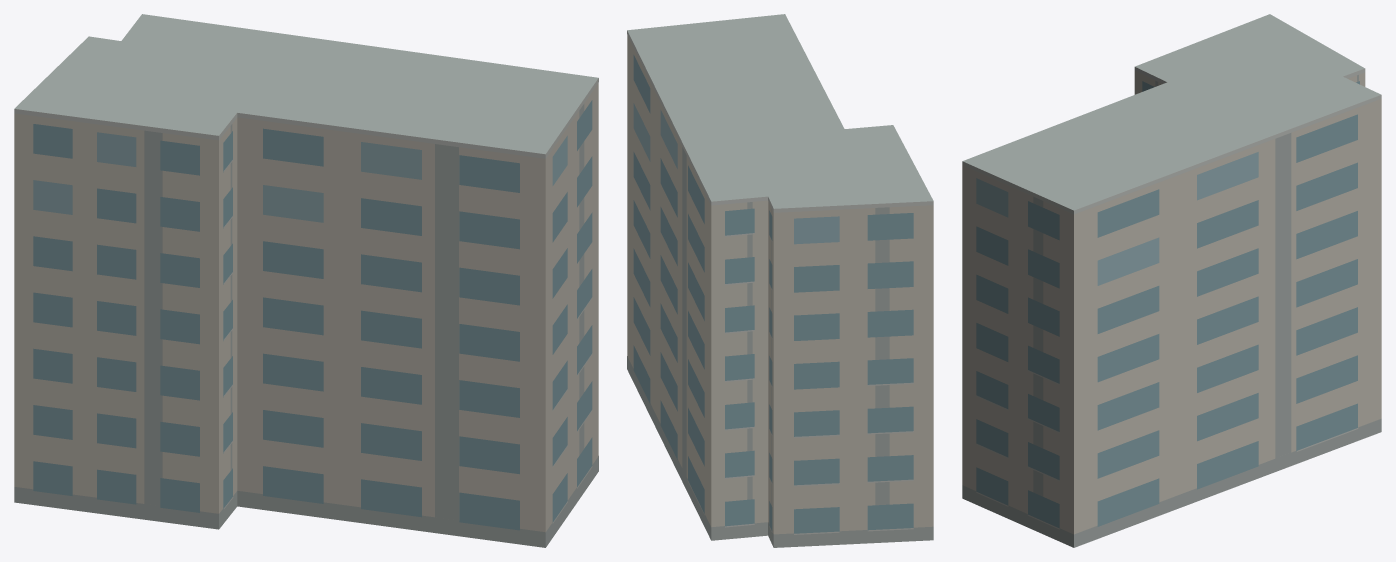
File: survey-upis-32978839.glb
3 views of the same model, side by side, from view 1: azimuth 30°, elevation 25°; view 2: azimuth 150°, elevation 25°; view 3: azimuth 270°, elevation 25° (orthographic). The views are drawn at different scales.
Parts seen in each view (by area): view 1: survey-upis-32978839.tmp; view 2: survey-upis-32978839.tmp; view 3: survey-upis-32978839.tmp.
Boxes of the visible parts, box(x1,y1,x2,y2) form: survey-upis-32978839.tmp: box(14, 14, 598, 547); survey-upis-32978839.tmp: box(627, 14, 933, 547); survey-upis-32978839.tmp: box(962, 14, 1381, 547).
Size of the model in its own units: 26.01 by 20.8 by 23.44.
